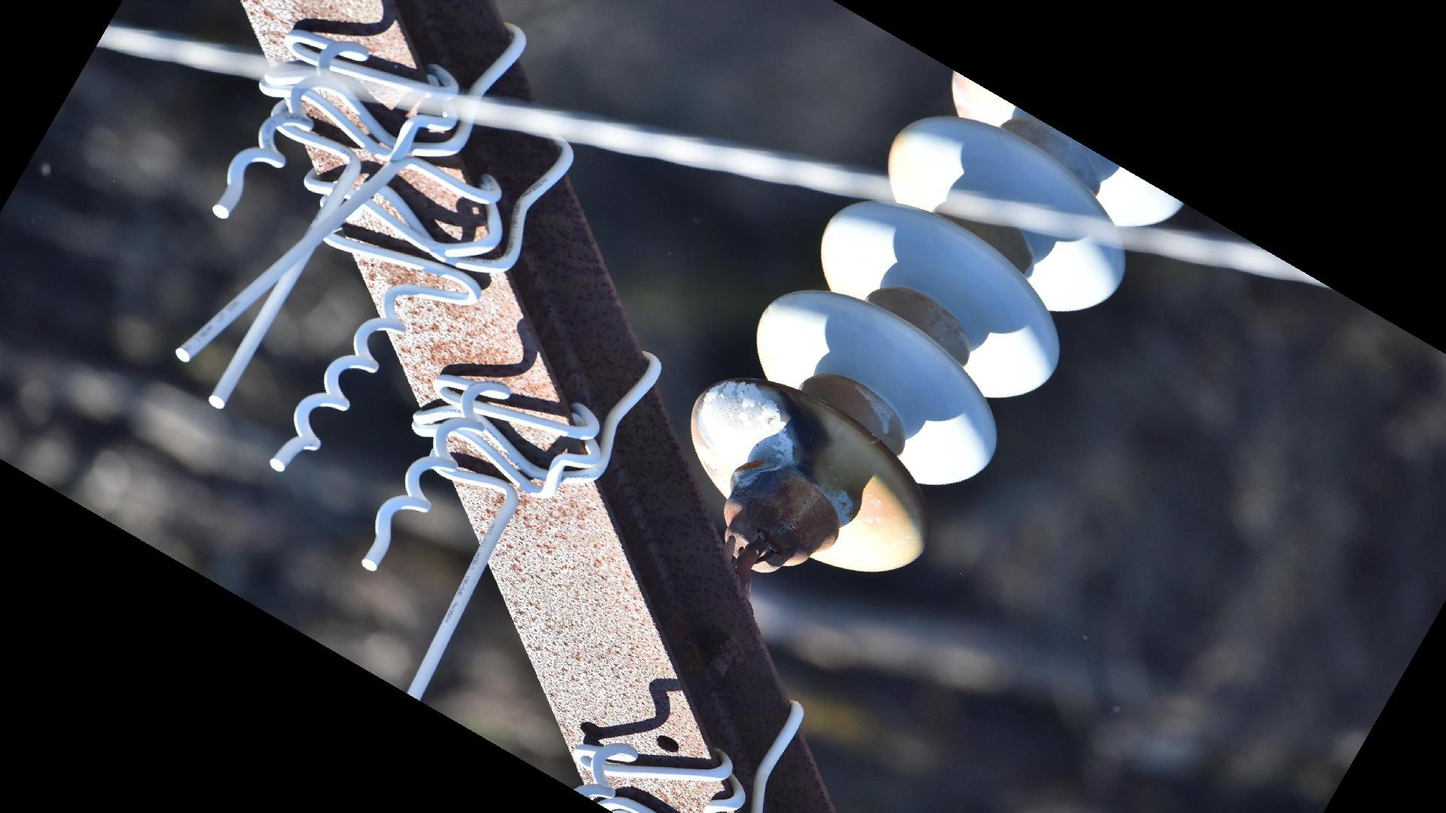insulator: (685, 66, 1184, 580)
insulator_flashover: (694, 375, 798, 480)
